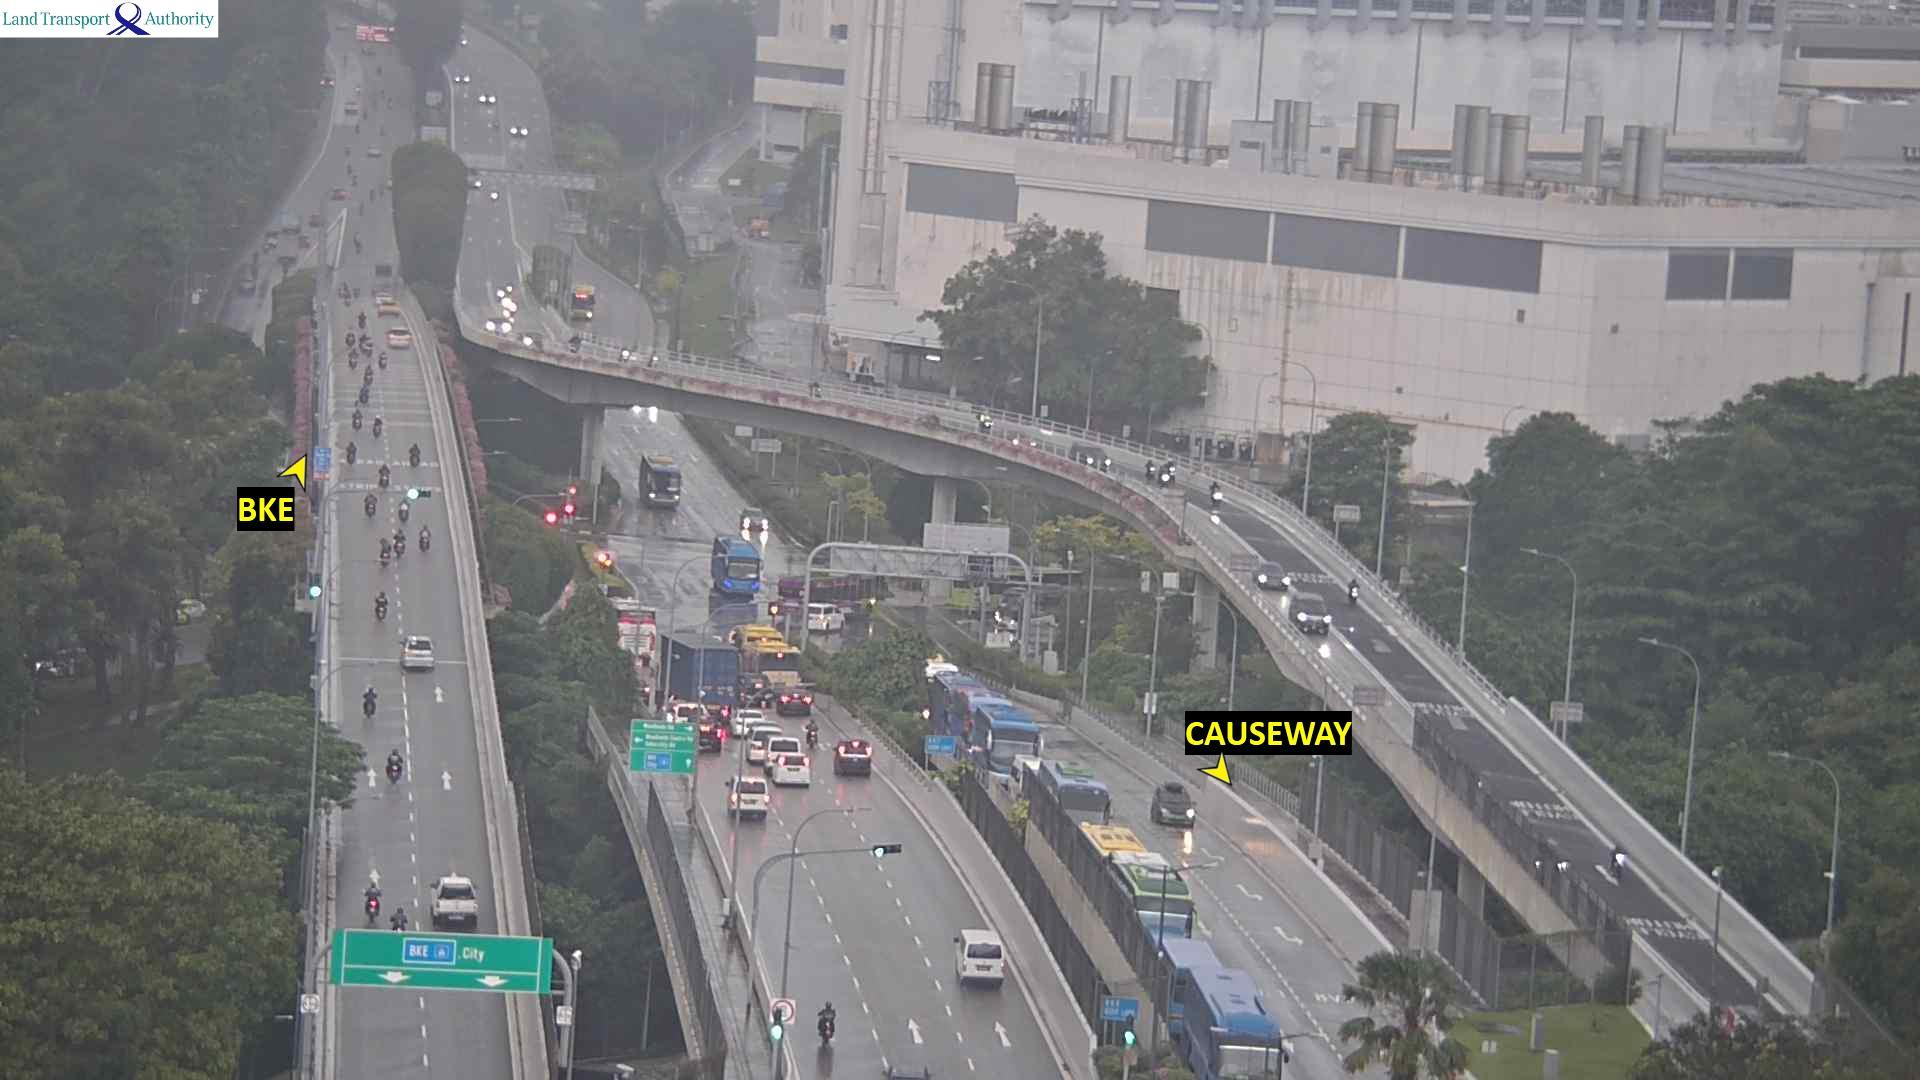vehicle-causeway-johor: (1172, 973, 1280, 1050), (1108, 853, 1191, 938), (956, 699, 1039, 762), (1027, 764, 1108, 822), (716, 535, 757, 592), (1286, 588, 1335, 634), (1155, 783, 1195, 823), (1069, 442, 1112, 469), (742, 508, 767, 531), (1258, 566, 1287, 585), (485, 314, 506, 332), (1609, 849, 1623, 874), (985, 411, 1001, 429), (1345, 580, 1360, 599), (493, 280, 508, 295), (1208, 481, 1220, 500), (1145, 462, 1156, 479), (530, 336, 542, 351), (1162, 469, 1174, 484)
vehicle-causeway-singapore: (658, 636, 741, 709), (731, 630, 800, 676), (959, 934, 1005, 986), (832, 741, 873, 779), (748, 733, 798, 762), (429, 902, 485, 926), (729, 779, 766, 814), (729, 713, 770, 742), (737, 721, 782, 748), (758, 742, 798, 767), (435, 881, 472, 907), (746, 752, 786, 771), (779, 695, 812, 717), (729, 804, 766, 823), (775, 754, 811, 773), (778, 769, 811, 787), (404, 638, 431, 657), (820, 1004, 833, 1040), (404, 655, 433, 670), (361, 889, 375, 915), (360, 694, 372, 721), (390, 758, 402, 783), (390, 327, 407, 343), (421, 526, 431, 551), (411, 448, 422, 471), (377, 592, 386, 617), (400, 500, 409, 522), (373, 414, 382, 435), (380, 537, 388, 560), (397, 527, 404, 555), (360, 386, 371, 404), (365, 365, 375, 384), (352, 409, 360, 430), (347, 443, 355, 463), (396, 914, 405, 930), (381, 465, 389, 484), (349, 349, 357, 368), (364, 495, 371, 516), (380, 352, 388, 367)
